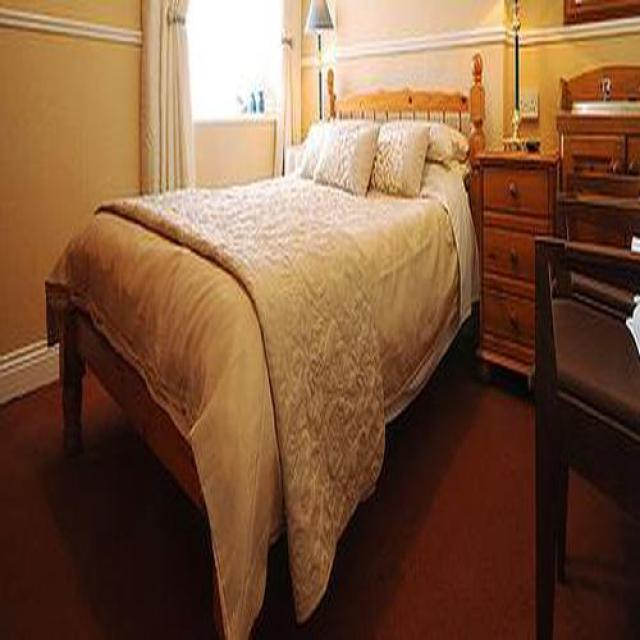bed: (45, 92, 481, 640)
